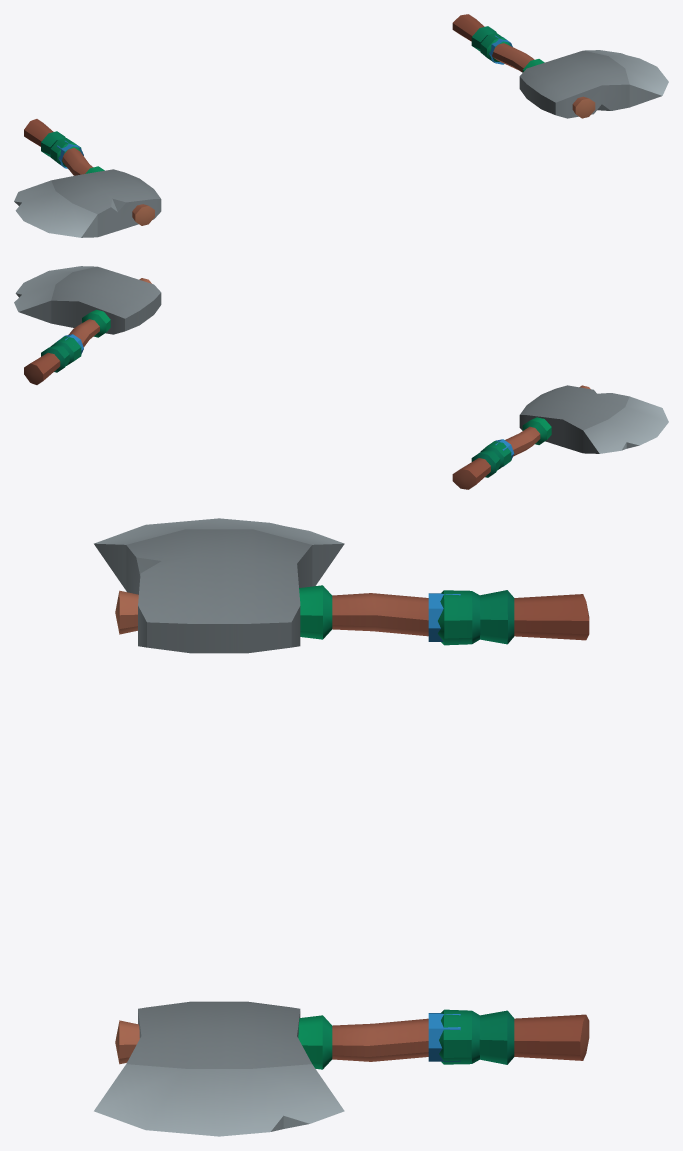
The model's file is berserker_axe_t2.glb.
The picture shows the model from 3 angles, top to bottom: view 1: azimuth 30°, elevation 25°; view 2: azimuth 150°, elevation 25°; view 3: azimuth 270°, elevation 25°; orthographic projection. The views are drawn at different scales.
Parts seen in each view (by area): view 1: berserker_axe_t2__handslot_l, berserker_axe_t2__handslot_r; view 2: berserker_axe_t2__handslot_r, berserker_axe_t2__handslot_l; view 3: berserker_axe_t2__handslot_l, berserker_axe_t2__handslot_r.
Boxes of the visible parts, x1=… form: berserker_axe_t2__handslot_l: x1=452, y1=14, x2=668, y2=118; berserker_axe_t2__handslot_r: x1=14, y1=119, x2=161, y2=237; berserker_axe_t2__handslot_r: x1=452, y1=385, x2=668, y2=489; berserker_axe_t2__handslot_l: x1=14, y1=266, x2=161, y2=384; berserker_axe_t2__handslot_l: x1=94, y1=1001, x2=589, y2=1136; berserker_axe_t2__handslot_r: x1=94, y1=518, x2=589, y2=653.
Bounding box in the file's own units: 7.34 × 0.3699 × 2.49.
Materials: 3 (3 with a texture image).
